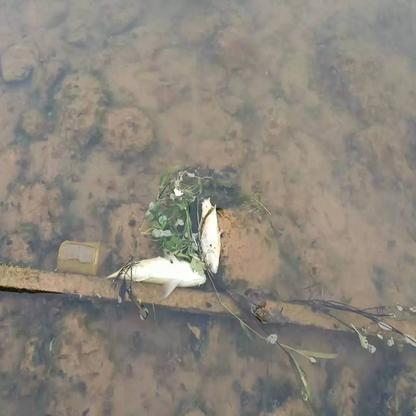deceased fish: (104, 248, 207, 288), (197, 193, 223, 275)
